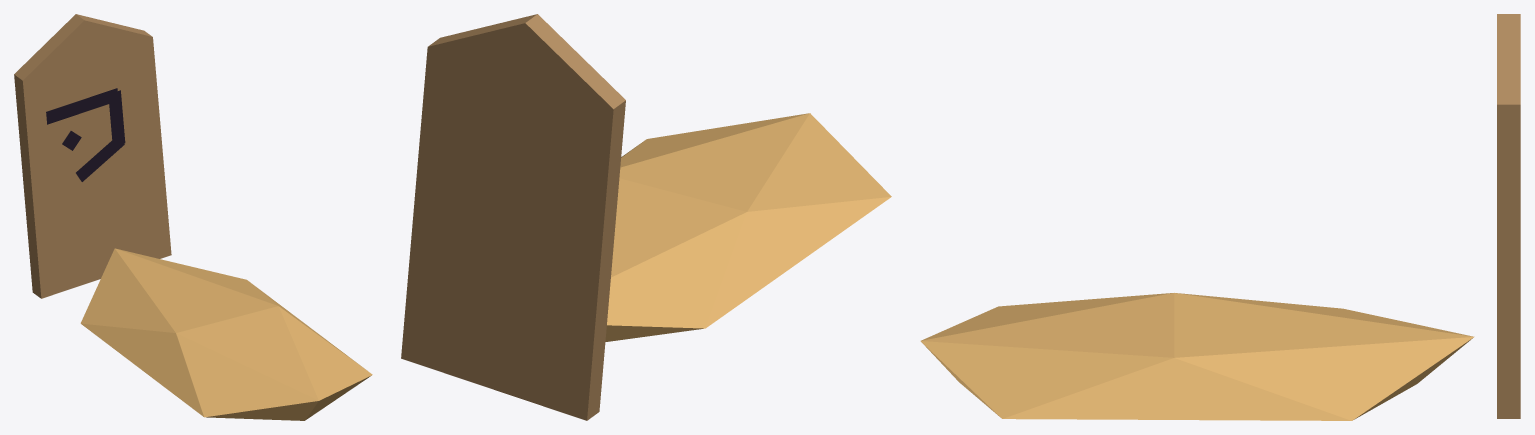
File: Prop_GraveMarker_A.fbx
3 renders of one model, left to right at view 1: azimuth 30°, elevation 25°; view 2: azimuth 150°, elevation 25°; view 3: azimuth 270°, elevation 25°, orthographic. The views are drawn at different scales.
Parts seen in each view (by area): view 1: Prop_GraveMarker_A; view 2: Prop_GraveMarker_A; view 3: Prop_GraveMarker_A.
Boxes of the visible parts, box(x1,y1,x2,y2) form: Prop_GraveMarker_A: box(14, 14, 372, 420); Prop_GraveMarker_A: box(401, 14, 891, 420); Prop_GraveMarker_A: box(920, 14, 1520, 420).
Size of the model in its own units: 0.6884 by 1.02 by 1.52.
